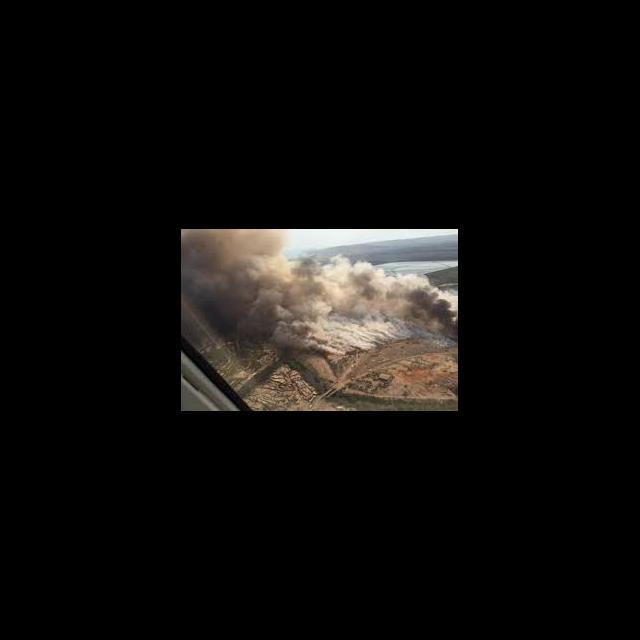Smoke: (182, 230, 458, 354)
